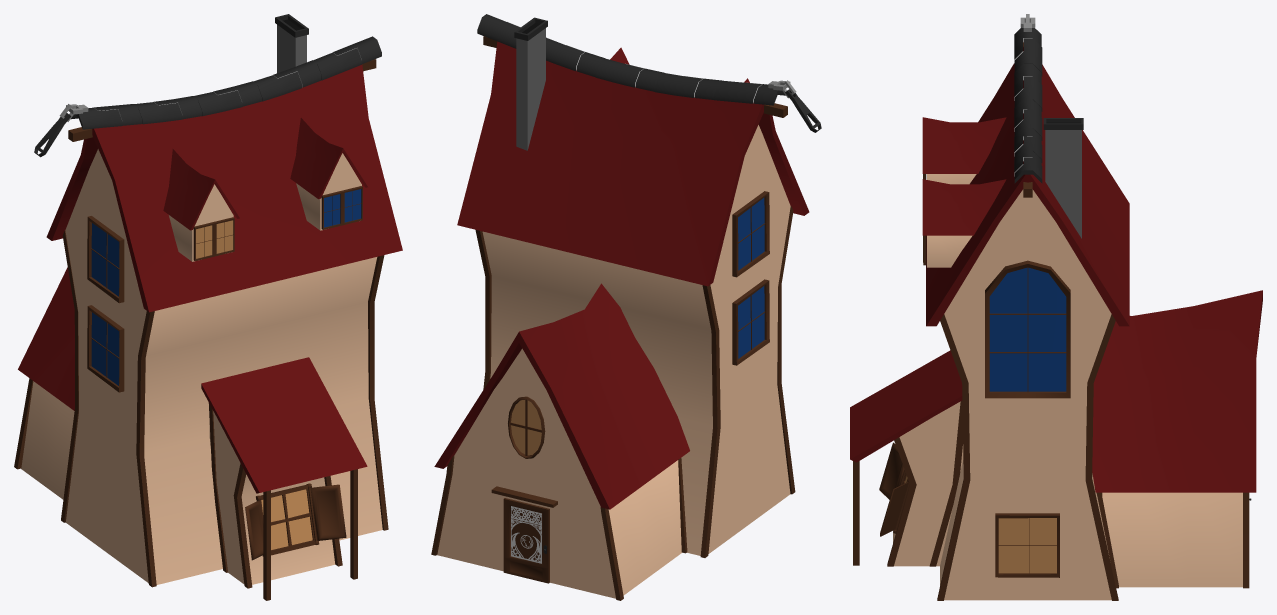
The model's file is HouseVariation.5.fbx.
The picture shows the model from 3 angles, left to right: view 1: azimuth 30°, elevation 25°; view 2: azimuth 150°, elevation 25°; view 3: azimuth 270°, elevation 25°; orthographic projection.
Parts seen in each view (by area): view 1: HouseVariation.5; view 2: HouseVariation.5; view 3: HouseVariation.5.
Boxes of the visible parts, bbox=[...] form: HouseVariation.5: bbox=[14, 14, 402, 600]; HouseVariation.5: bbox=[431, 14, 821, 600]; HouseVariation.5: bbox=[850, 14, 1262, 600].
Size of the model in its own units: 1192 by 1572 by 1267.
